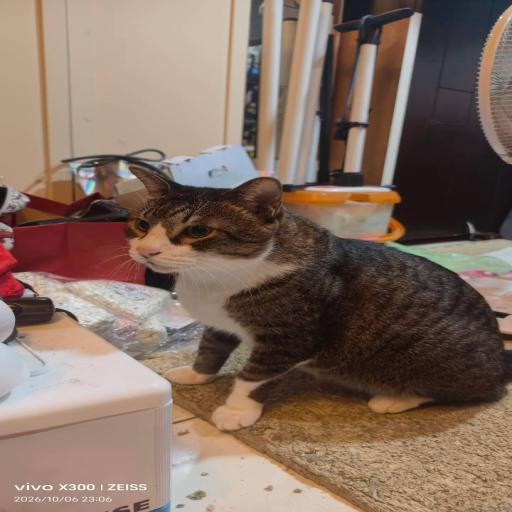cat: (135, 181, 497, 420)
